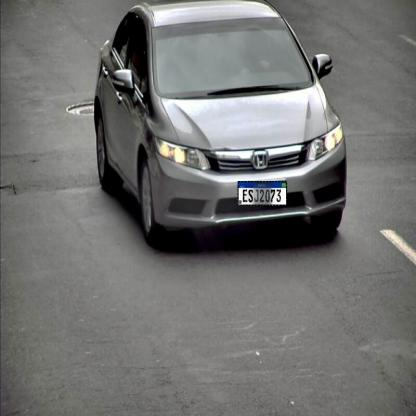PlacaM: (238, 181, 287, 206)
